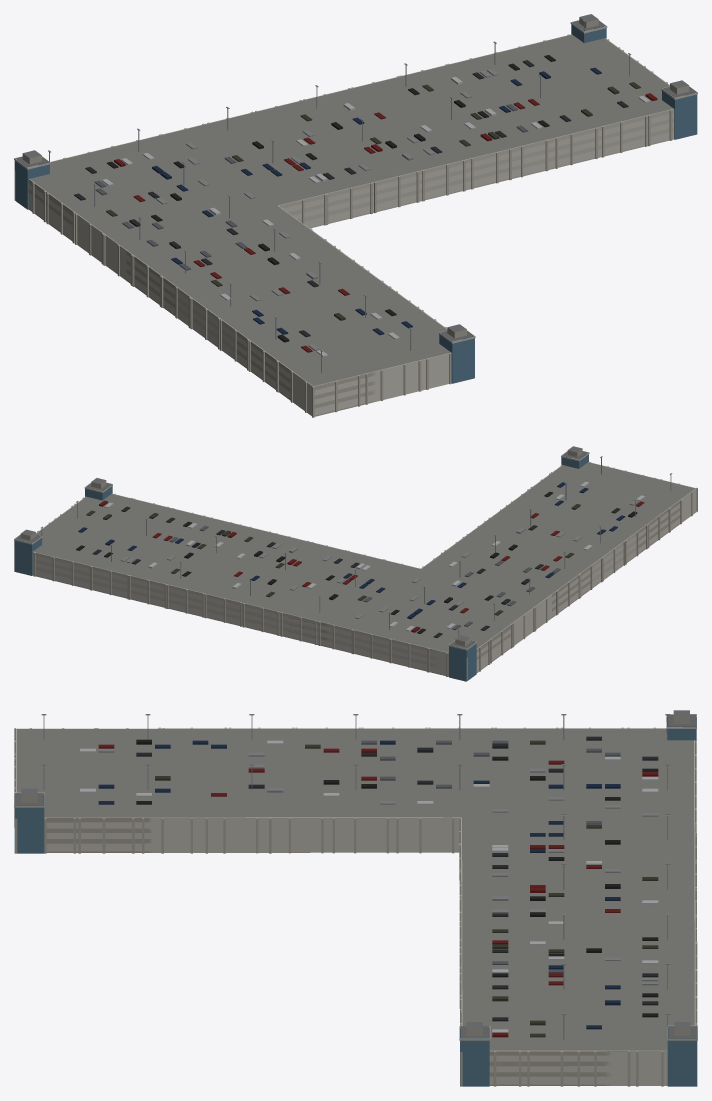
The model's file is atl-north-daily-deck.glb.
The picture shows the model from 3 angles, top to bottom: view 1: azimuth 30°, elevation 25°; view 2: azimuth 150°, elevation 25°; view 3: azimuth 270°, elevation 25°; orthographic projection. The views are drawn at different scales.
Parts seen in each view (by area): view 1: lod2_lm_stone, lod2_bld_wall, lod0_lm_stone, lod1_lm_stone, lod0_lm_metal, lod0_bld_glass; view 2: lod2_lm_stone, lod2_bld_wall, lod0_lm_stone, lod0_lm_metal, lod1_lm_stone, lod0_bld_glass; view 3: lod2_lm_stone, lod2_bld_wall, lod0_lm_metal, lod0_lm_stone, lod1_lm_stone, lod0_bld_glass.
Part boxes in pixels (left/top/right/bottom): lod2_lm_stone: left=30, top=34, right=681, bottom=386; lod2_bld_wall: left=28, top=113, right=674, bottom=415; lod0_lm_stone: left=14, top=17, right=697, bottom=417; lod1_lm_stone: left=14, top=20, right=697, bottom=417; lod0_lm_metal: left=48, top=20, right=657, bottom=372; lod0_bld_glass: left=14, top=23, right=697, bottom=383; lod2_lm_stone: left=26, top=462, right=695, bottom=652; lod2_bld_wall: left=32, top=488, right=696, bottom=676; lod0_lm_stone: left=14, top=449, right=697, bottom=676; lod0_lm_metal: left=41, top=456, right=672, bottom=637; lod1_lm_stone: left=14, top=451, right=697, bottom=681; lod0_bld_glass: left=14, top=454, right=588, bottom=681; lod2_lm_stone: left=17, top=728, right=695, bottom=1050; lod2_bld_wall: left=46, top=818, right=667, bottom=1085; lod0_lm_metal: left=41, top=714, right=670, bottom=1039; lod0_lm_stone: left=14, top=714, right=697, bottom=1086; lod1_lm_stone: left=14, top=714, right=697, bottom=1086; lod0_bld_glass: left=14, top=716, right=697, bottom=1086.
Bounding box in the file's own units: 219 × 19.04 × 195.
